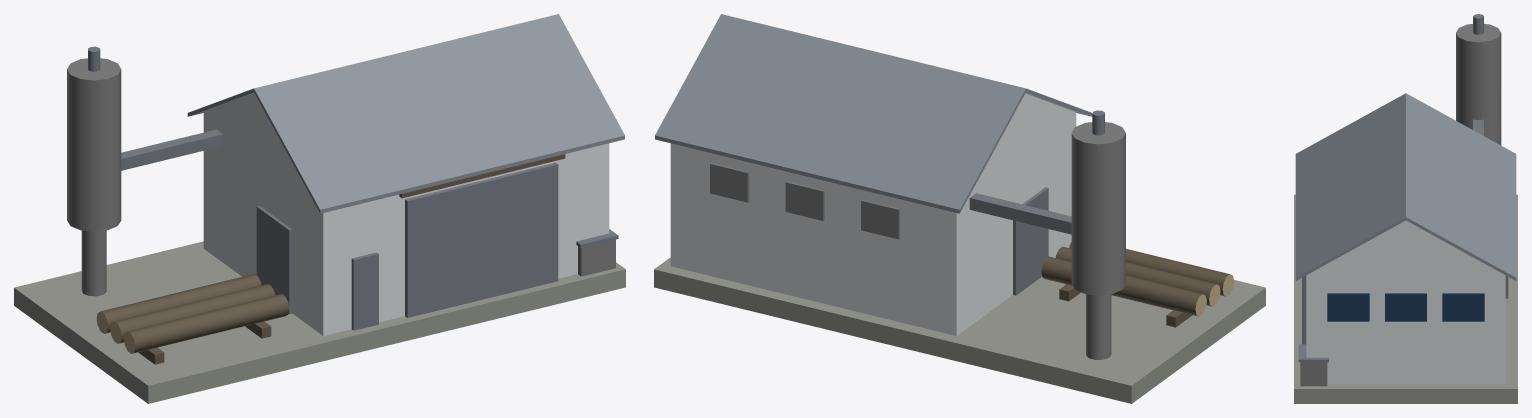
File: mashup-main-mid-prebuilt.fbx
3 renders of one model, left to right at view 1: azimuth 30°, elevation 25°; view 2: azimuth 150°, elevation 25°; view 3: azimuth 270°, elevation 25°, orthographic. The views are drawn at different scales.
Parts seen in each view (by area): view 1: a1016.Main; view 2: a1016.Main; view 3: a1016.Main.
Part boxes in pixels (left/top/right/bottom): a1016.Main: left=14, top=14, right=625, bottom=403; a1016.Main: left=654, top=14, right=1265, bottom=403; a1016.Main: left=1294, top=14, right=1517, bottom=403.
Size of the model in its own units: 15.2 by 7.9 by 7.4.
